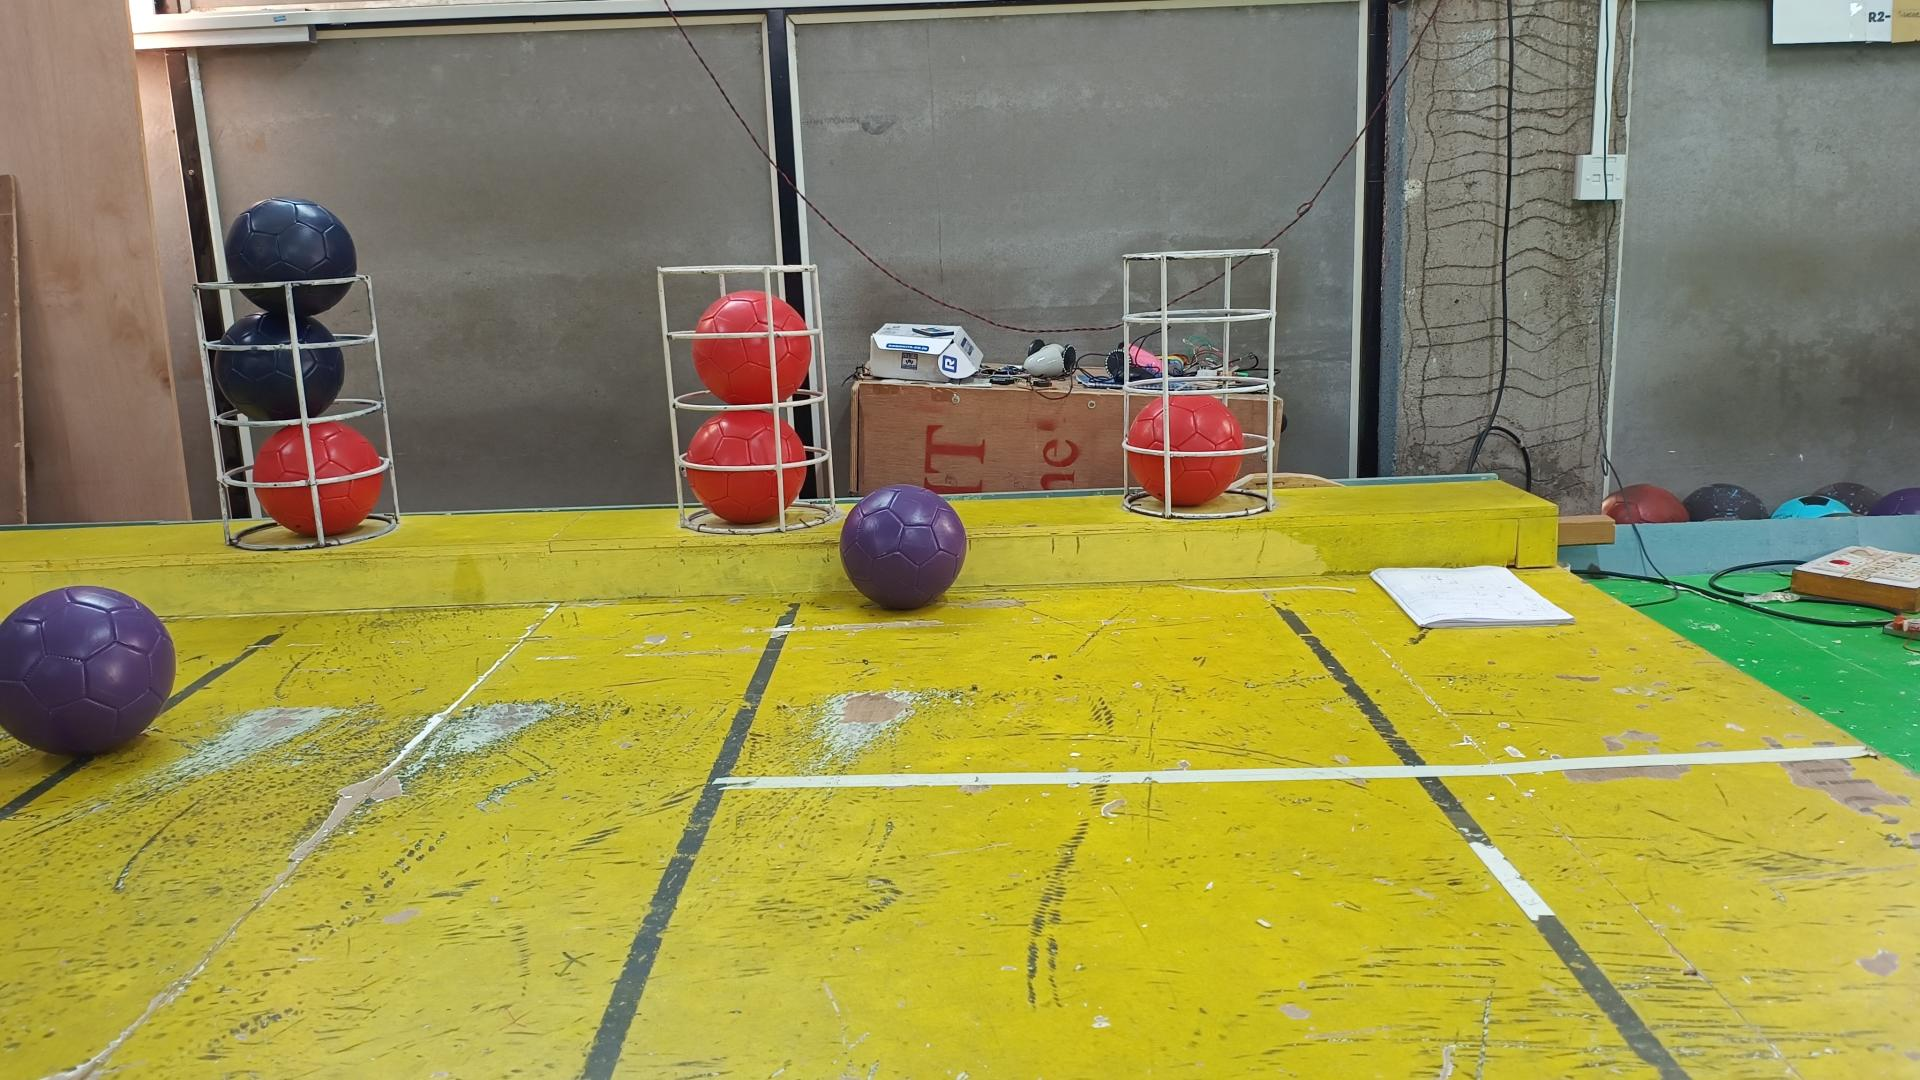dhoka: (225, 199, 356, 319), (214, 311, 345, 419)
laale: (252, 419, 382, 537), (683, 409, 806, 525), (690, 289, 810, 405), (1125, 394, 1245, 506)
